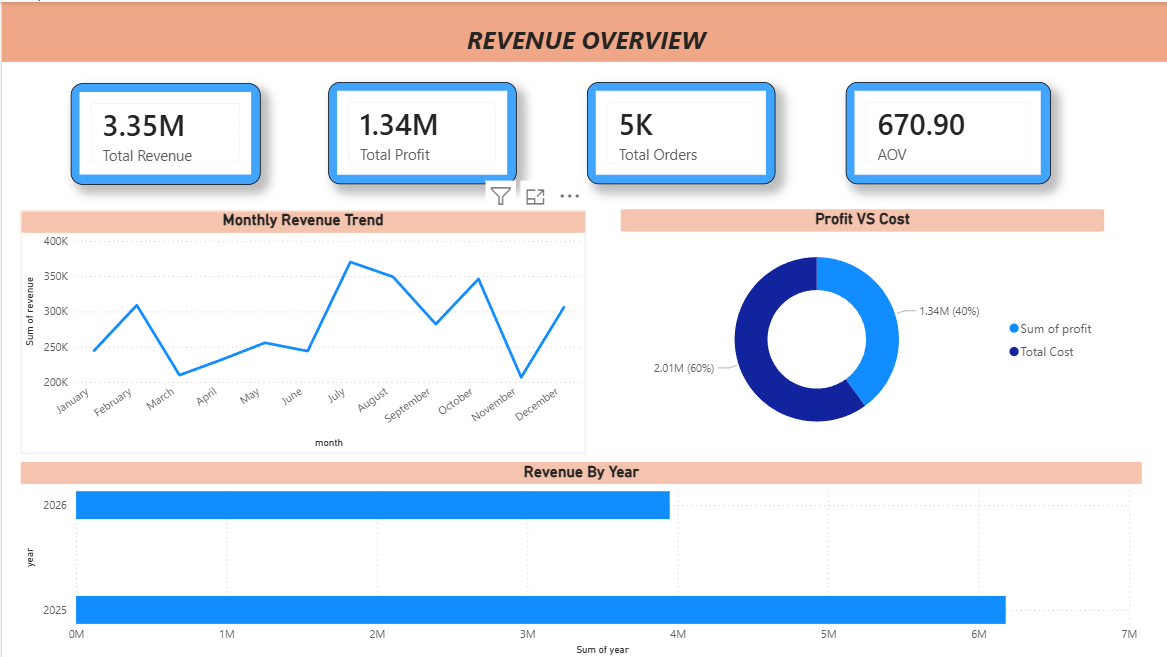

What the dashboard file says about the page in this screenshot:
{"tool":"powerbi","page":{"name":"Page 1","canvas":[1280,720],"ordinal":0},"visuals":[{"type":"textbox","box":[0,0,1280.3,65.9],"z":0},{"type":"cardVisual","fields":{"Data":["cleaned_sales_data.Total Revenue"]},"box":[75.3,89,208.1,110.9],"z":1000},{"type":"cardVisual","fields":{"Data":["cleaned_sales_data.Total Profit"]},"box":[357.4,87.6,206.8,112.3],"z":2000},{"type":"cardVisual","fields":{"Data":["cleaned_sales_data.Total Orders"]},"box":[640.8,87.6,206.8,112.3],"z":3000},{"type":"cardVisual","fields":{"Data":["cleaned_sales_data.AOV"]},"box":[924.3,87.6,224.6,112.3],"z":4000},{"type":"lineChart","title":"Monthly Revenue Trend","fields":{"Y":["Sum(cleaned_sales_data.revenue)"],"Category":["cleaned_sales_data.month"]},"box":[20.5,228.7,618.9,265.6],"z":5000},{"type":"barChart","title":"Revenue By Year","fields":{"Category":["cleaned_sales_data.year"],"Y":["Sum(cleaned_sales_data.year)"]},"box":[20.5,503.9,1228.2,216.3],"z":6000},{"type":"donutChart","title":"Profit VS Cost","fields":{"Y":["Sum(cleaned_sales_data.profit)","cleaned_sales_data.Total Cost"]},"box":[677.8,227.3,529.9,265.6],"z":7000}]}

Visuals, with their boxes in screenshot pixels (x1, y1, x2, y2), scaled from the page's 1280x720 canvas onto the 1167x657 screenshot:
textbox: bbox=(0, 0, 1166, 60)
cardVisual - cleaned_sales_data.Total Revenue: bbox=(69, 81, 258, 182)
cardVisual - cleaned_sales_data.Total Profit: bbox=(326, 80, 514, 182)
cardVisual - cleaned_sales_data.Total Orders: bbox=(584, 80, 773, 182)
cardVisual - cleaned_sales_data.AOV: bbox=(843, 80, 1047, 182)
"Monthly Revenue Trend" lineChart: bbox=(19, 209, 583, 451)
"Revenue By Year" barChart: bbox=(19, 460, 1138, 656)
"Profit VS Cost" donutChart: bbox=(618, 207, 1101, 450)
